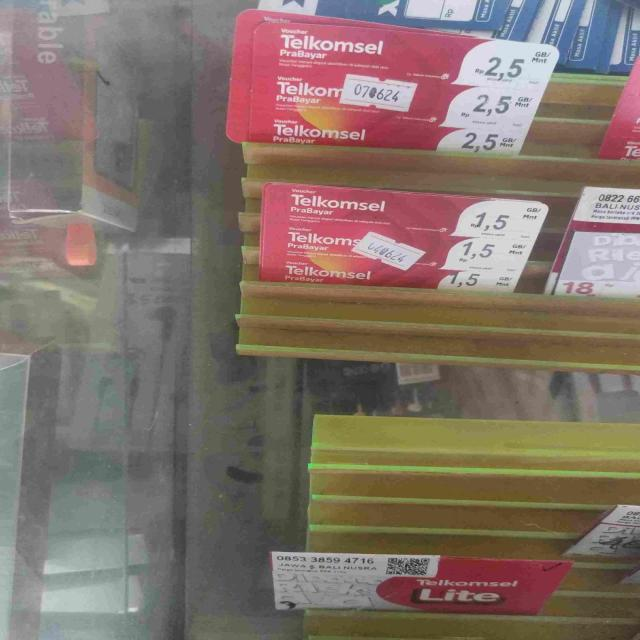Telkomsel: (232, 8, 555, 151), (259, 180, 541, 289), (269, 552, 562, 615)
